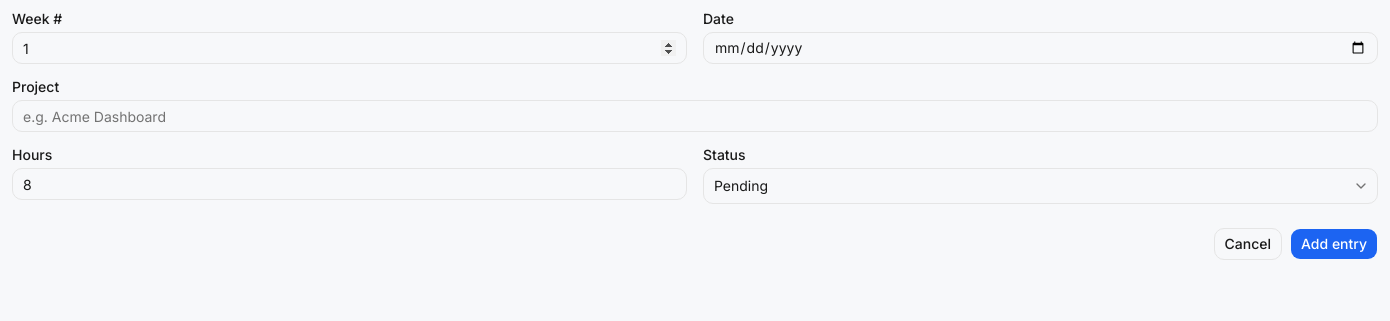
Test: TimesheetForm › shows validation errors when required fields are empty
The width and height of the screenshot is (1390, 321).
Step 1. Click the button "Add entry" → x=1334, y=244, box [1290, 228, 1378, 260]
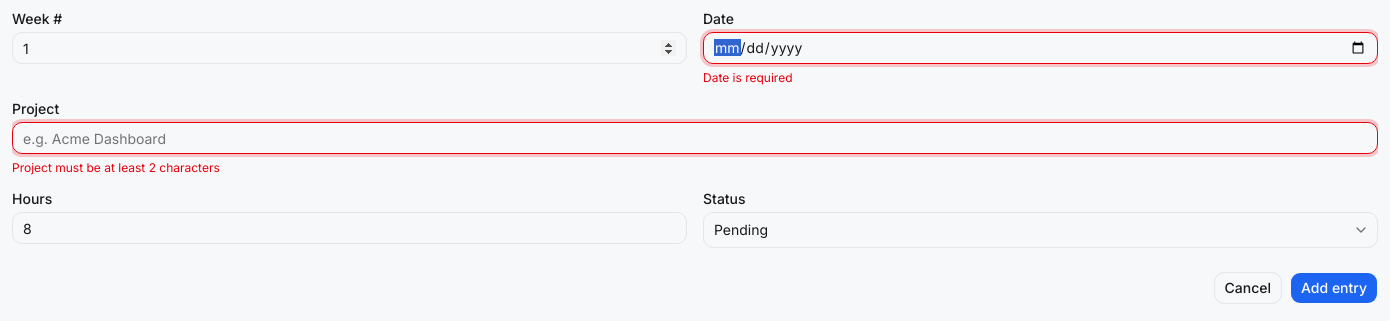
Check: the text "Date is required" is shown, box [703, 70, 792, 85]
Check: the text "Project must be at least 2 characters" is shown, box [12, 160, 220, 175]
